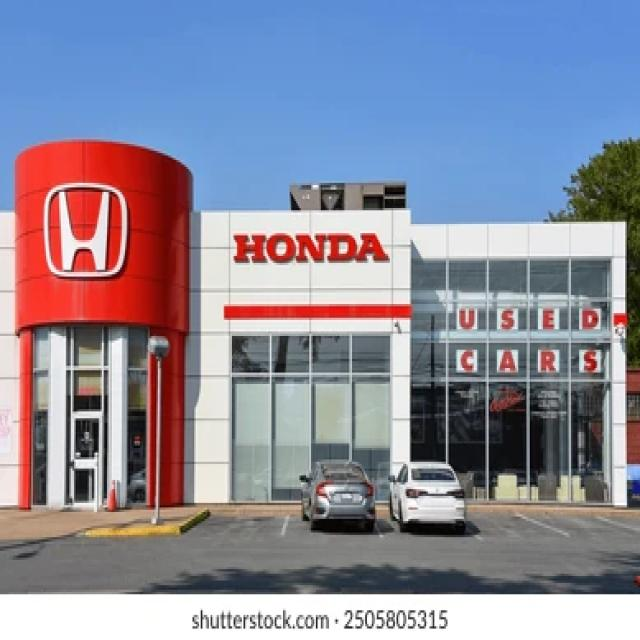honda: (40, 178, 140, 283)
